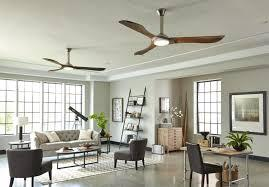chair: (3, 150, 54, 187), (184, 143, 223, 187), (113, 135, 150, 171)
fan: (115, 6, 227, 58), (41, 47, 110, 78)
light: (11, 117, 31, 141)
sofa: (34, 131, 99, 153)
table: (209, 149, 257, 187), (57, 150, 102, 167), (177, 146, 214, 166), (156, 128, 184, 152), (100, 135, 113, 155), (9, 141, 32, 151), (199, 139, 210, 151)
